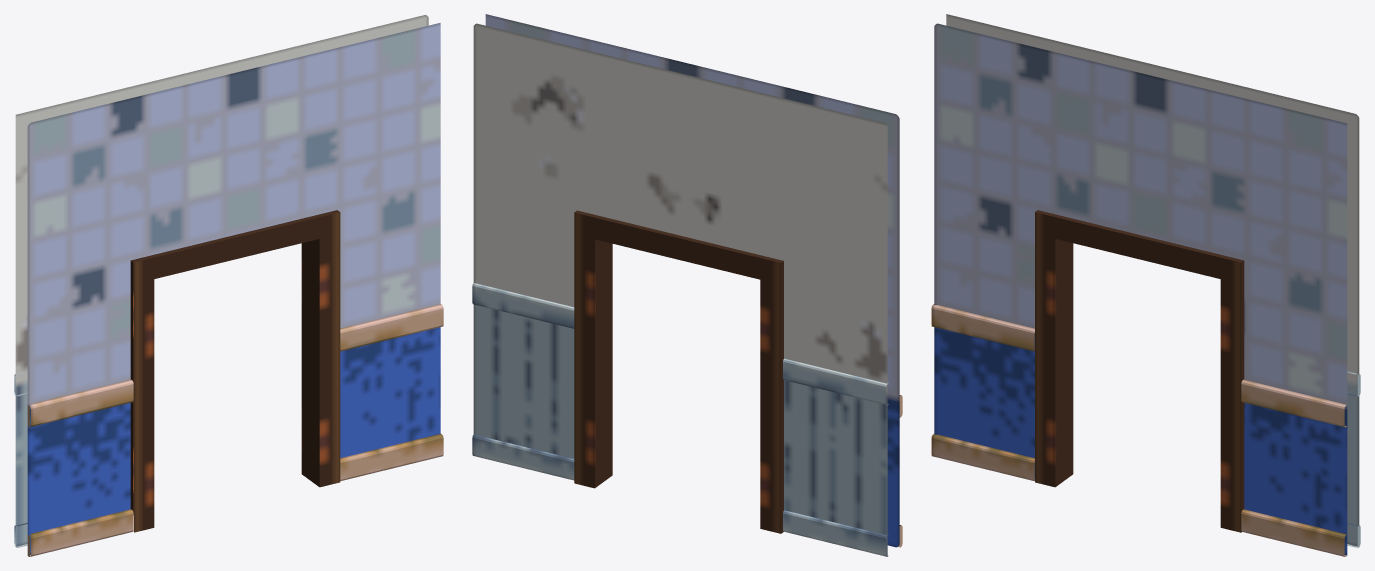
File: Wall_Door_TipoB.fbx
The picture shows the model from 3 angles, left to right: view 1: azimuth 30°, elevation 25°; view 2: azimuth 150°, elevation 25°; view 3: azimuth 330°, elevation 25°; orthographic projection.
Parts seen in each view (by area): view 1: Cube.097, Cube.098, Cube.109, Cube.108; view 2: Cube.097, Cube.098, Cube.100, Cube.101; view 3: Cube.097, Cube.098, Cube.109, Cube.108.
Boxes of the visible parts, left/top/right/bottom form: Cube.097: left=15, top=15, right=440, bottom=554; Cube.098: left=130, top=210, right=340, bottom=532; Cube.109: left=27, top=433, right=443, bottom=556; Cube.108: left=27, top=304, right=443, bottom=427; Cube.097: left=473, top=14, right=899, bottom=556; Cube.098: left=574, top=210, right=783, bottom=533; Cube.100: left=472, top=283, right=888, bottom=405; Cube.101: left=472, top=434, right=888, bottom=556; Cube.097: left=934, top=14, right=1359, bottom=555; Cube.098: left=1035, top=210, right=1244, bottom=532; Cube.109: left=931, top=434, right=1346, bottom=556; Cube.108: left=931, top=304, right=1346, bottom=427.
Bounding box in the file's own units: 400 × 400 × 30.
